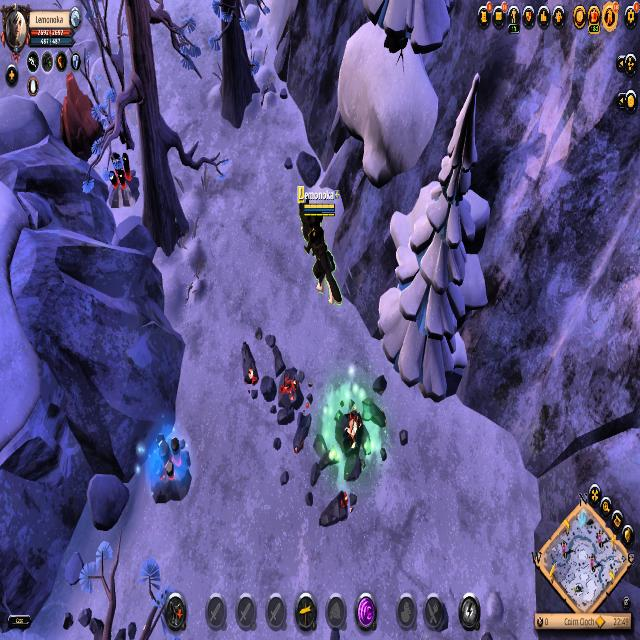ore tier 5: (148, 426, 192, 504), (110, 156, 138, 213)
